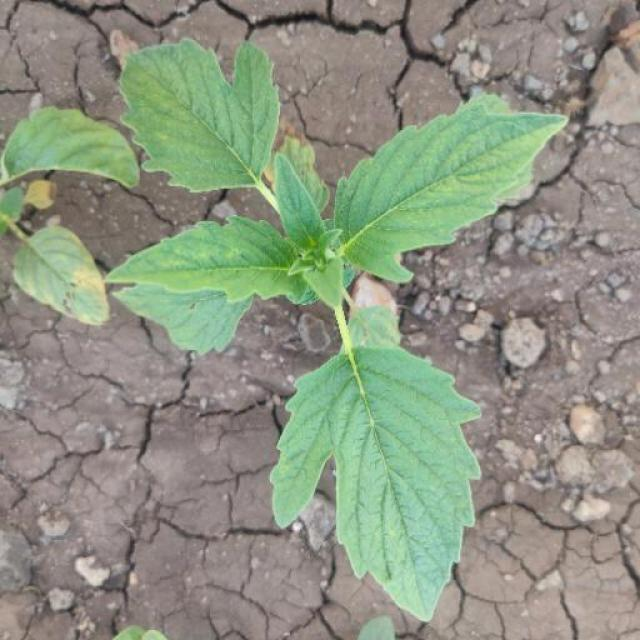crop: (98, 19, 568, 618)
